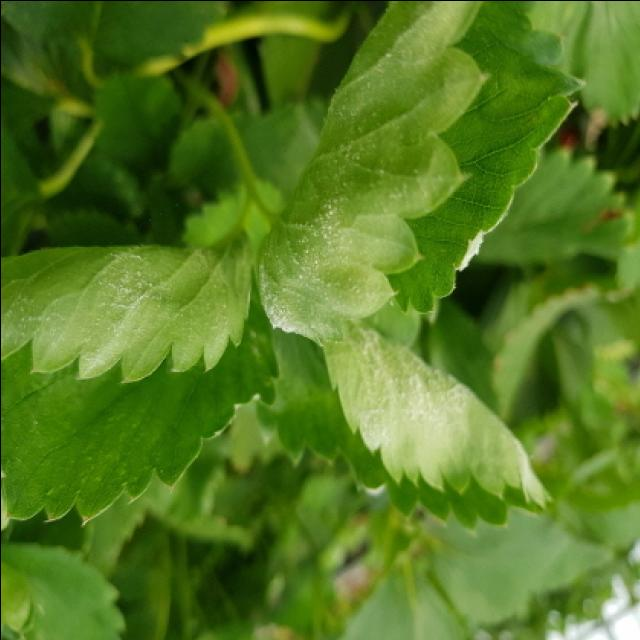Powdery Mildew Leaf: (252, 2, 584, 346), (2, 240, 279, 526), (253, 321, 557, 535)
